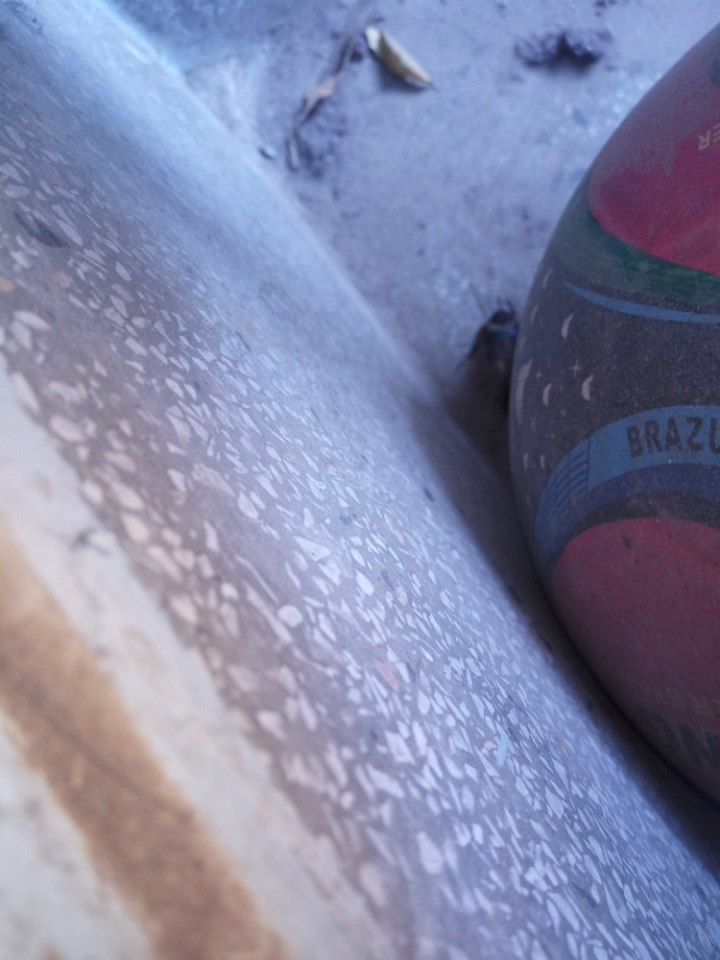cockroach: (456, 266, 540, 430)
